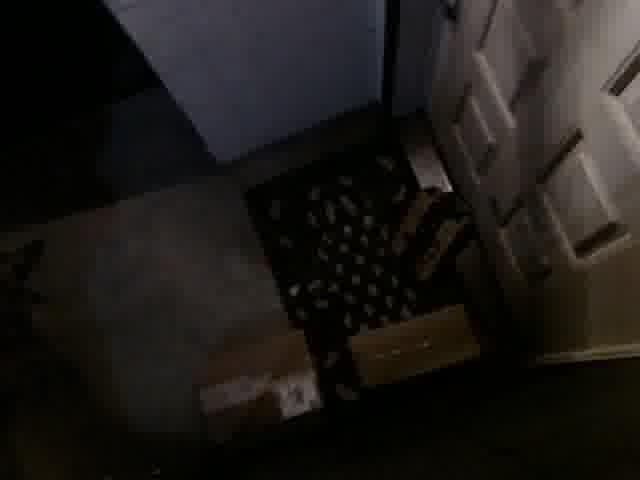box: (191, 329, 327, 443), (345, 301, 489, 391)
